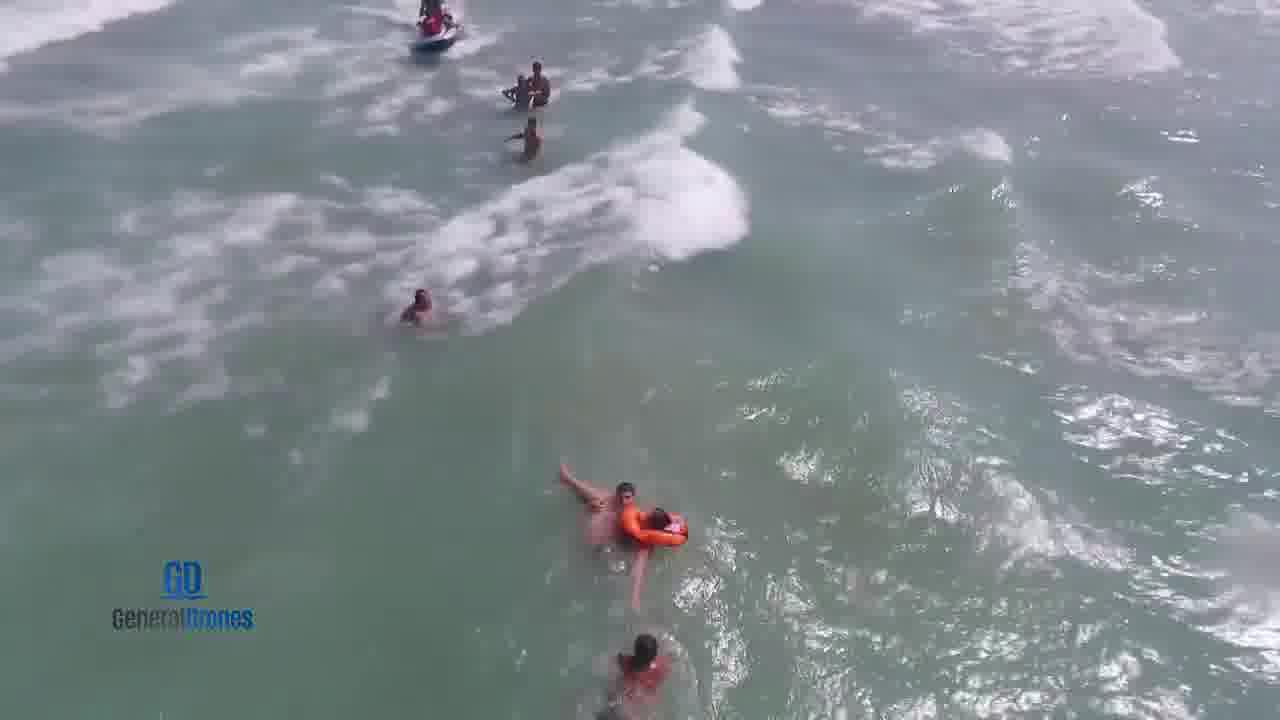human: (546, 457, 688, 603), (597, 623, 677, 720), (385, 282, 461, 339), (489, 119, 557, 174), (591, 462, 656, 512), (519, 50, 564, 103), (494, 74, 541, 114)
